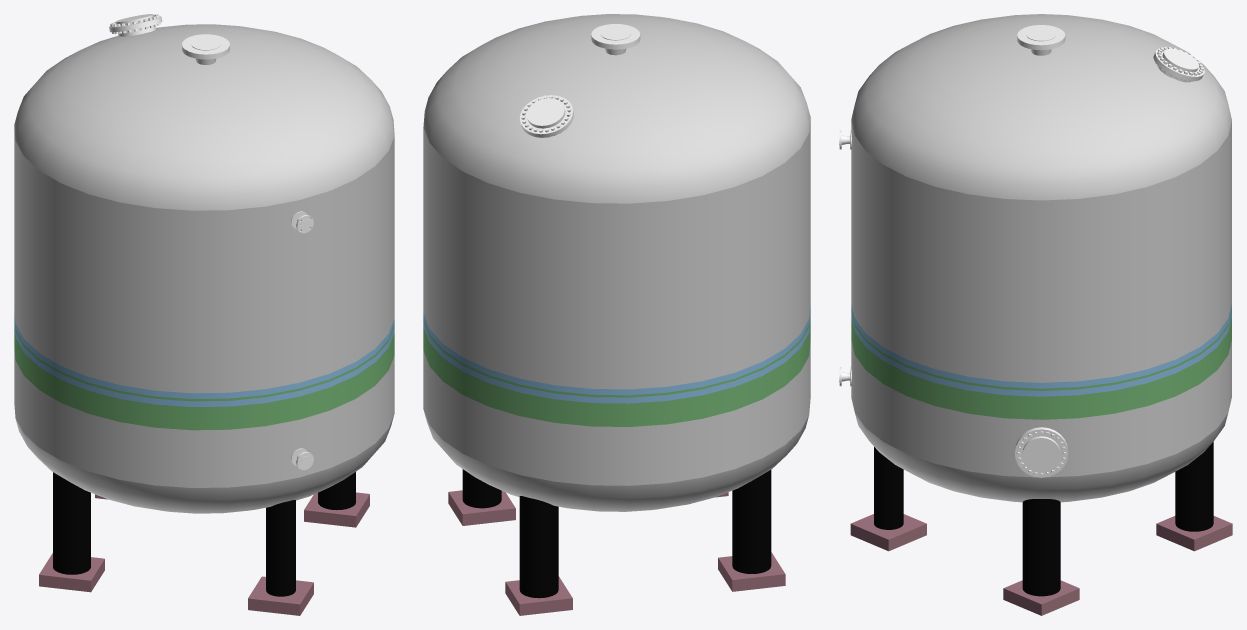
Rendered from CM01-FA_FC_Grande.glb.
The picture shows the model from 3 angles, left to right: view 1: azimuth 30°, elevation 25°; view 2: azimuth 150°, elevation 25°; view 3: azimuth 270°, elevation 25°; orthographic projection.
Visible parts, largest first — view 1: 3DGeom-12, 3DGeom-2 (×2), 3DGeom-13, 3DGeom-14, 3DGeom-21, 3DGeom-8, 3DGeom-20, 3DGeom-5, 3DGeom-11, 3DGeom-17, 3DGeom-15, 3DGeom-6; view 2: 3DGeom-12, 3DGeom-2 (×2), 3DGeom-13, 3DGeom-14, 3DGeom-4, 3DGeom-21, 3DGeom-6, 3DGeom-9, 3DGeom-5, 3DGeom-11, 3DGeom-17, 3DGeom-15; view 3: 3DGeom-12, 3DGeom-2 (×2), 3DGeom-13, 3DGeom-14, 3DGeom-15, 3DGeom-4, 3DGeom-7, 3DGeom-8, 3DGeom-20, 3DGeom-9, 3DGeom-11, 3DGeom-6 (+1 smaller).
Part boxes in pixels (x1,y1,x2,y2): 3DGeom-12: [14, 128, 394, 487]; 3DGeom-2 (×2): [14, 24, 394, 513]; 3DGeom-13: [14, 317, 394, 430]; 3DGeom-14: [14, 311, 394, 407]; 3DGeom-21: [53, 472, 90, 574]; 3DGeom-8: [266, 500, 295, 596]; 3DGeom-20: [248, 576, 313, 615]; 3DGeom-5: [39, 553, 104, 592]; 3DGeom-11: [304, 492, 369, 527]; 3DGeom-17: [182, 34, 229, 64]; 3DGeom-15: [318, 472, 355, 509]; 3DGeom-6: [109, 14, 162, 36]; 3DGeom-12: [423, 117, 810, 485]; 3DGeom-2 (×2): [423, 14, 810, 511]; 3DGeom-13: [423, 309, 810, 426]; 3DGeom-14: [423, 303, 810, 403]; 3DGeom-4: [519, 496, 558, 598]; 3DGeom-21: [732, 470, 771, 573]; 3DGeom-6: [519, 95, 573, 137]; 3DGeom-9: [505, 576, 572, 615]; 3DGeom-5: [718, 552, 785, 591]; 3DGeom-11: [448, 490, 515, 525]; 3DGeom-17: [591, 24, 640, 55]; 3DGeom-15: [462, 469, 501, 508]; 3DGeom-12: [851, 121, 1231, 477]; 3DGeom-2 (×2): [851, 14, 1231, 502]; 3DGeom-13: [851, 309, 1231, 419]; 3DGeom-14: [851, 303, 1231, 396]; 3DGeom-15: [1022, 499, 1060, 596]; 3DGeom-4: [1175, 442, 1213, 531]; 3DGeom-7: [1015, 427, 1068, 477]; 3DGeom-8: [874, 447, 903, 529]; 3DGeom-20: [850, 514, 926, 551]; 3DGeom-9: [1156, 516, 1232, 551]; 3DGeom-11: [1003, 580, 1079, 615]; 3DGeom-6: [1153, 47, 1204, 82].
Size of the model in its own units: 3.12 by 4.34 by 3.09.
